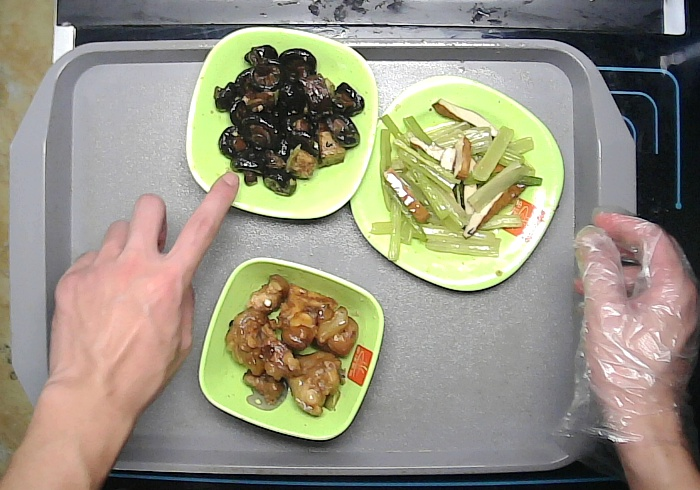SHKJ-Lv_Se_Cai_Die: (184, 25, 380, 222)
SHKJ-Lv_Se_Si_Fang_Cai_Die: (350, 72, 564, 296)
SHKJ-Lv_Se_Xiao_Fang_Die: (198, 257, 388, 444)
